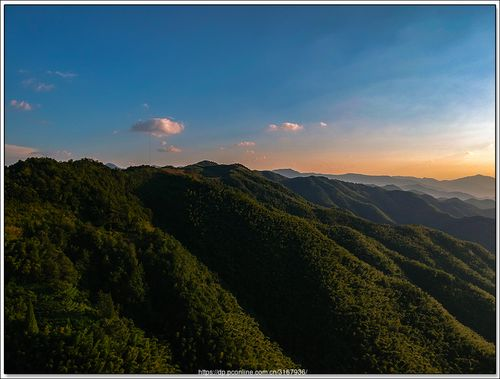mountain: (15, 165, 496, 359)
sky_cloud: (0, 34, 497, 142)
